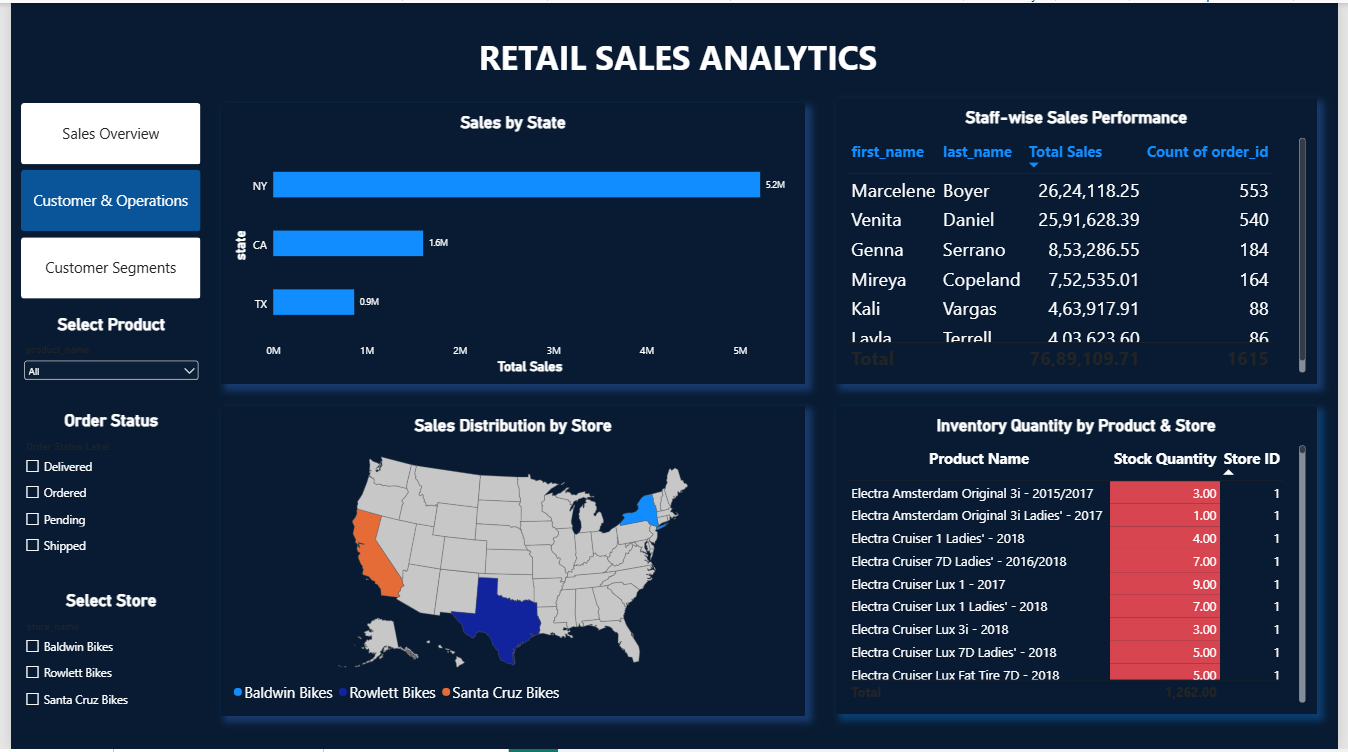

The dashboard page shown, as its layout file describes it:
{"tool":"powerbi","page":{"name":"Customer & Operations","canvas":[1920,1080],"ordinal":1},"visuals":[{"type":"barChart","title":"Sales by State","fields":{"Category":["customers.state"],"Y":["brands.Total Sales"]},"box":[304.6,144.1,846,407.5],"z":0},{"type":"shapeMap","title":"Sales Distribution by Store","fields":{"Category":["stores.state"],"Series":["stores.store_name"],"Value":["brands.Total Sales"]},"box":[304.6,582.5,846,448.7],"z":1000},{"type":"tableEx","title":"Inventory Quantity by Product & Store","fields":{"Values":["products.product_name","Sum(stocks.quantity)","stocks.store_id"]},"box":[1193.8,582.5,695.7,446.7],"z":2000},{"type":"slicer","title":"Order Status","fields":{"Values":["orders.Order Status Label"]},"box":[14.4,590.7,261.4,216.1],"z":3000},{"type":"slicer","title":"Select Product","fields":{"Values":["products.product_name"]},"box":[14.4,450.8,261.4,131.7],"z":4000},{"type":"slicer","title":"Select Store","fields":{"Values":["stores.store_name"]},"box":[14.4,850.1,261.4,181.1],"z":5000},{"type":"tableEx","title":"Staff-wise Sales Performance","fields":{"Values":["staffs.first_name","staffs.last_name","brands.Total Sales","orders.order_id"]},"box":[1193.8,137.9,695.7,413.7],"z":6000},{"type":"shape","box":[27.1,23.5,1876.6,105],"z":7000},{"type":"pageNavigator","box":[14.5,144.8,260.6,285.9],"z":8000}]}

Visuals, with their boxes in screenshot pixels (x1, y1, x2, y2), scaled from the page's 1920x1080 canvas onto the 1348x752 screenshot:
"Sales by State" barChart: l=214, t=100, r=808, b=384
"Sales Distribution by Store" shapeMap: l=214, t=406, r=808, b=718
"Inventory Quantity by Product & Store" tableEx: l=838, t=406, r=1327, b=717
"Order Status" slicer: l=10, t=411, r=194, b=562
"Select Product" slicer: l=10, t=314, r=194, b=406
"Select Store" slicer: l=10, t=592, r=194, b=718
"Staff-wise Sales Performance" tableEx: l=838, t=96, r=1327, b=384
shape: l=19, t=16, r=1337, b=89
pageNavigator: l=10, t=101, r=193, b=300
